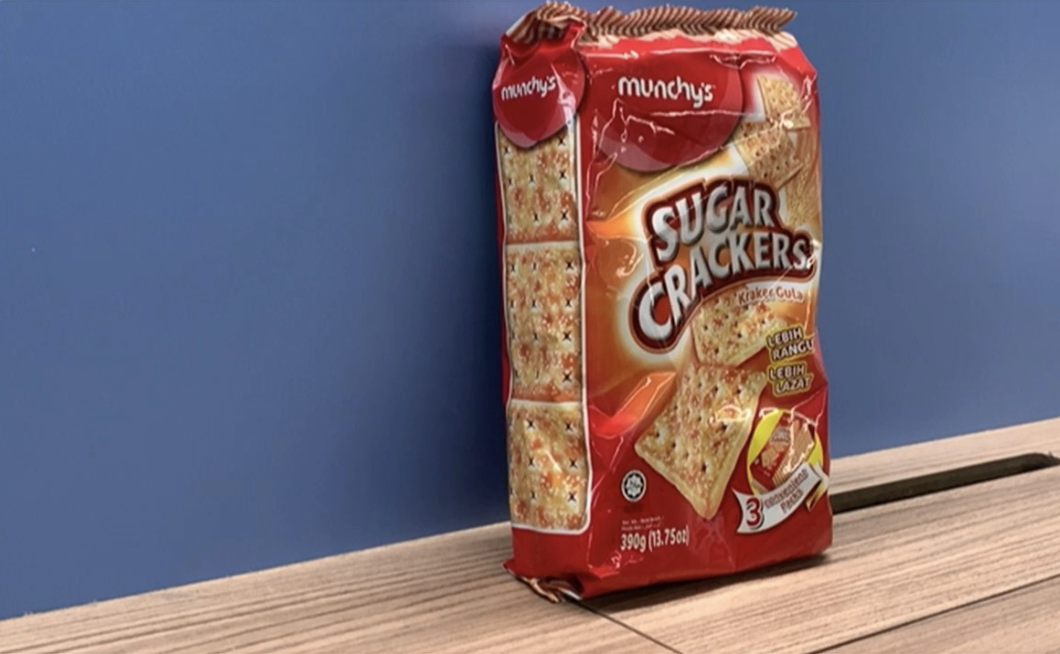crackers_150g: (508, 57, 819, 549)
